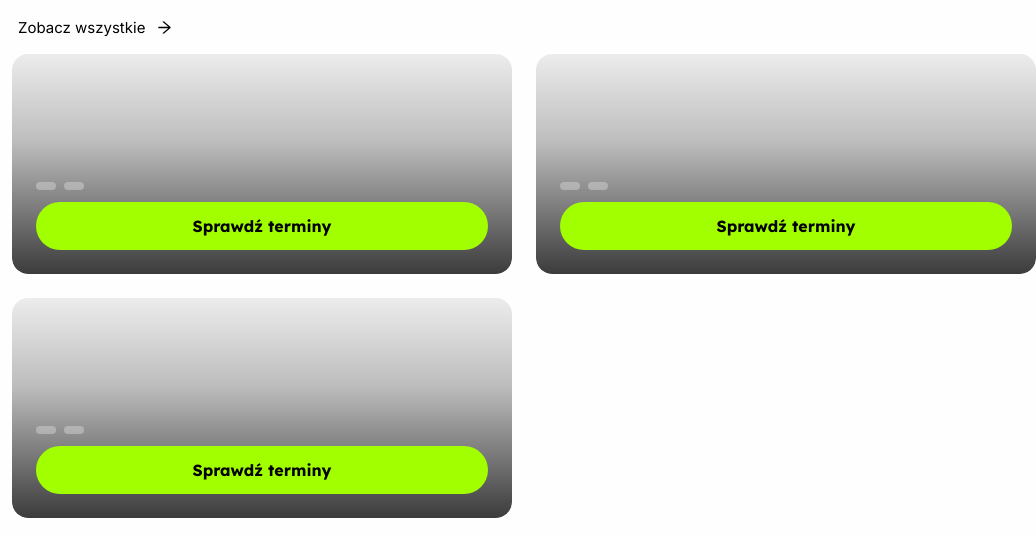
FacilitySection › toggles all facilities when "Zobacz wszystkie" is clicked
Click the button "Zobacz wszystkie" at (95, 28), box [12,17,178,38]
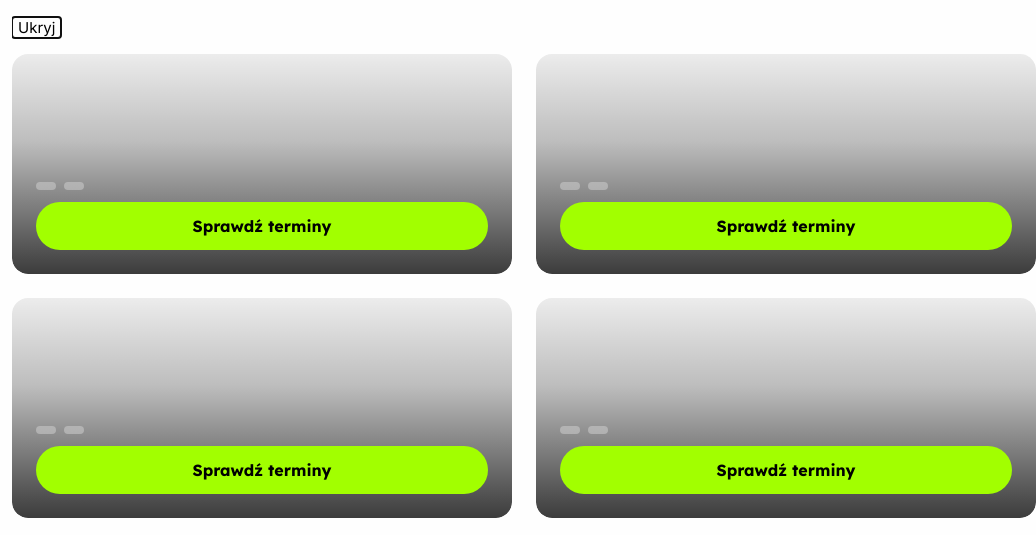
expect the button "Ukryj" is shown: met, box [12,17,61,38]
